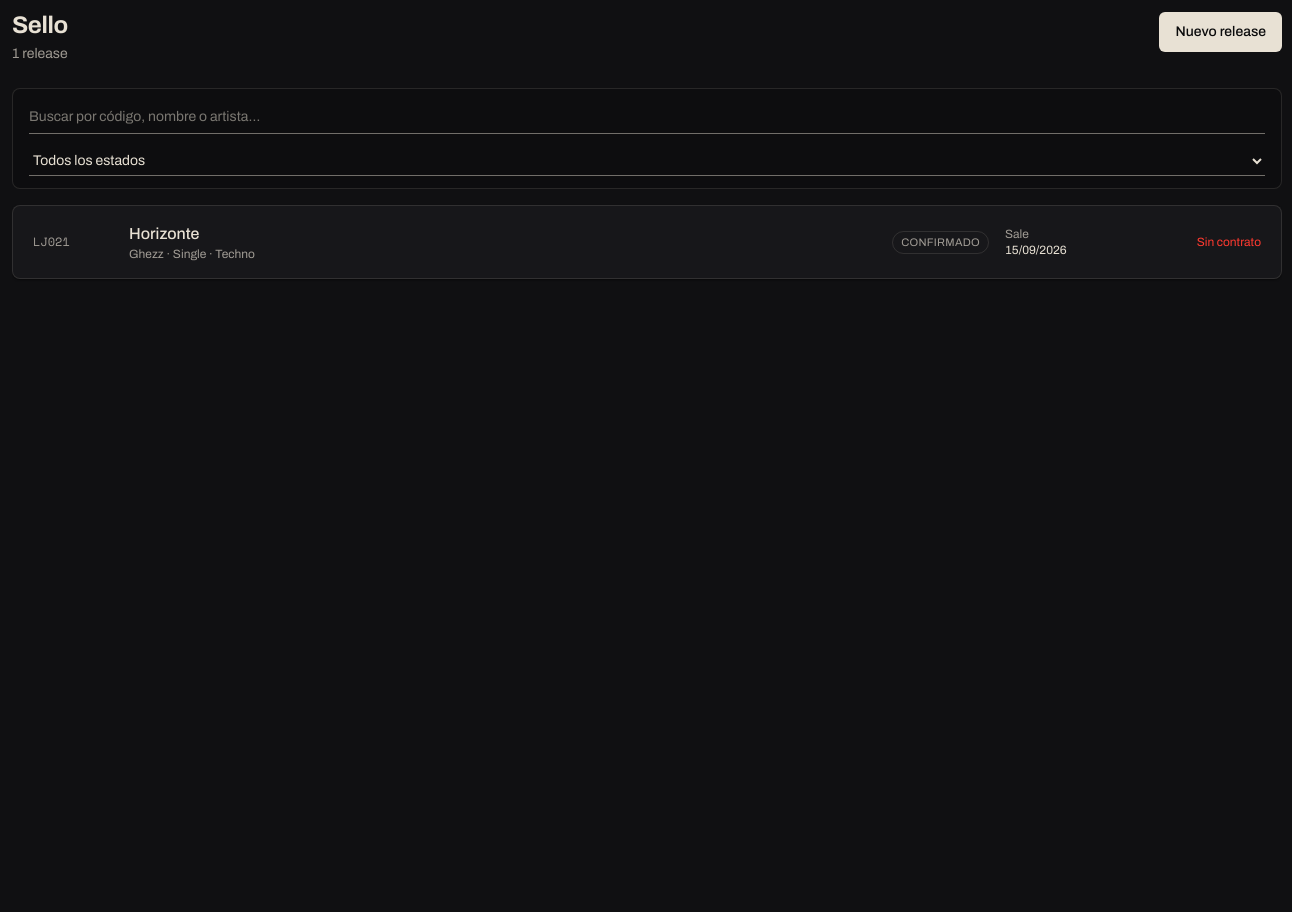
la regla del módulo › muestra el rechazo del backend y recién ahí ofrece la salida
Click the text "Horizonte" at (164, 234), box [129,225,199,242]
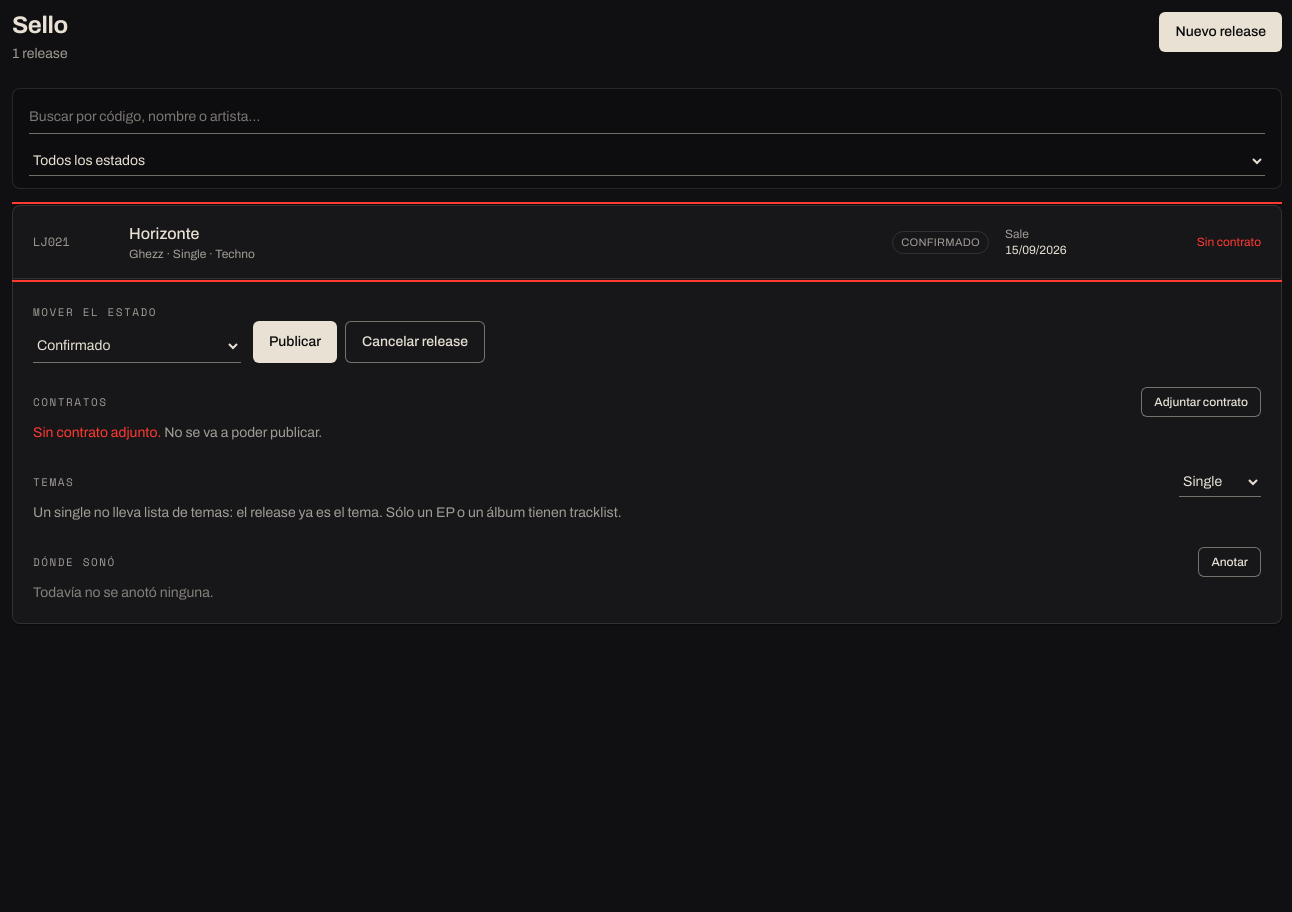
Expected: the text "Publicarlo igual, con motivo" is not shown
Click the button "Publicar" at (295, 342), box [253,321,337,363]
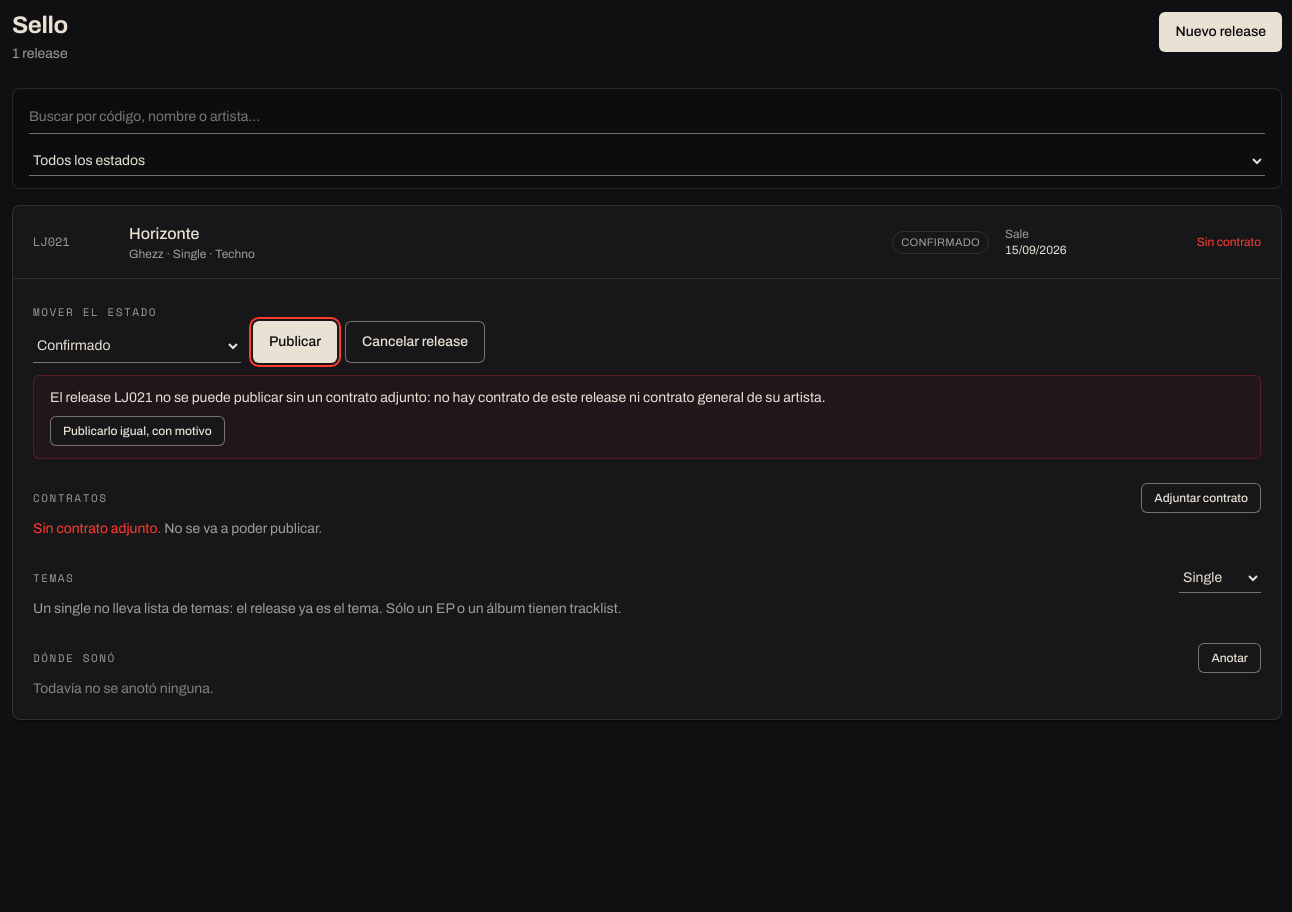
Result: the text "sin un contrato adjunto" is shown at [50,390,826,405]
Result: the button "Publicarlo igual, con motivo" is shown at [50,416,225,446]
